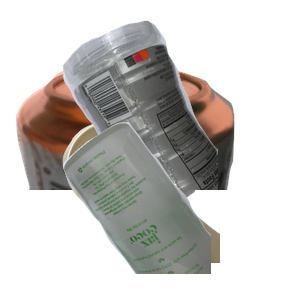glass: (60, 120, 300, 300)
metal: (13, 61, 240, 241)
plastic: (60, 18, 300, 198)
trash: (60, 120, 300, 300)
